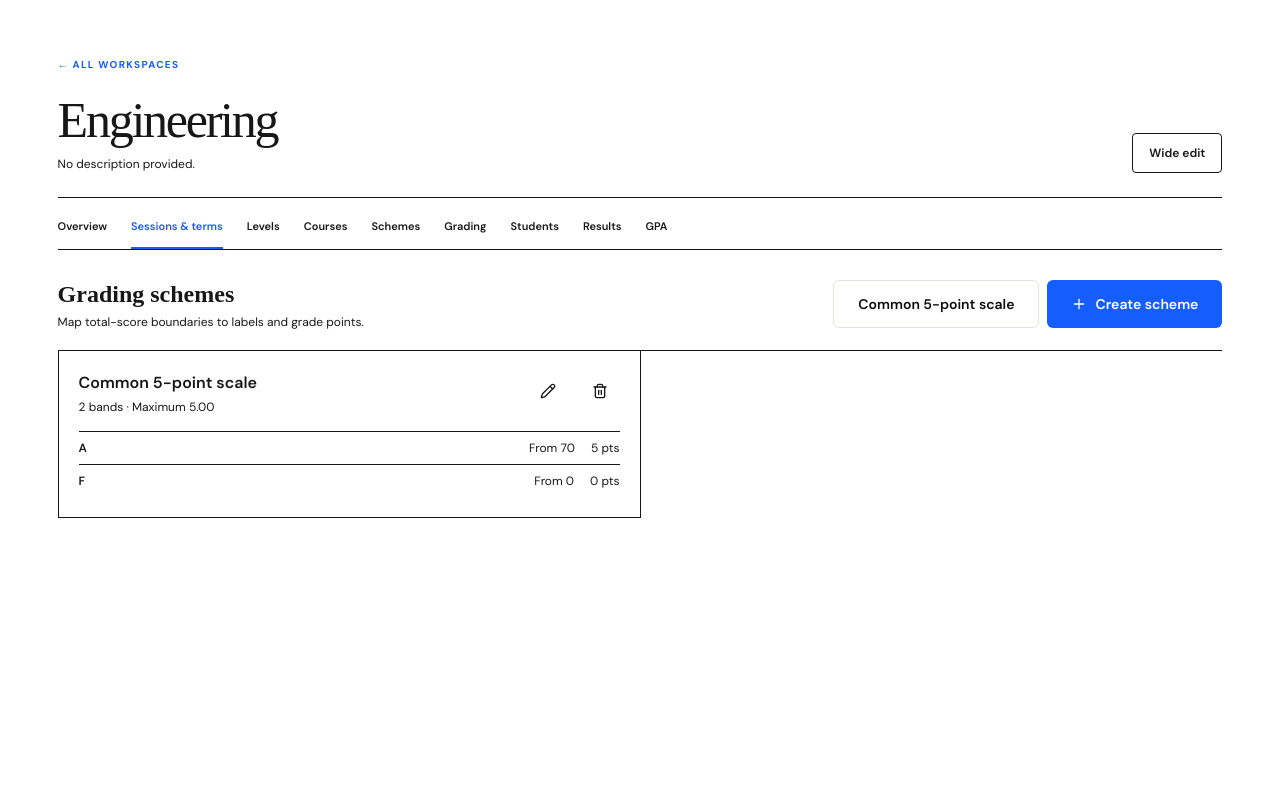
it: grading scheme management › edits a scheme and explains referenced-deletion conflicts without cache removal
The image size is (1280, 800).
Click the button named "Edit Common 5-point scale".
click(548, 391)  # box [528,371,568,411]
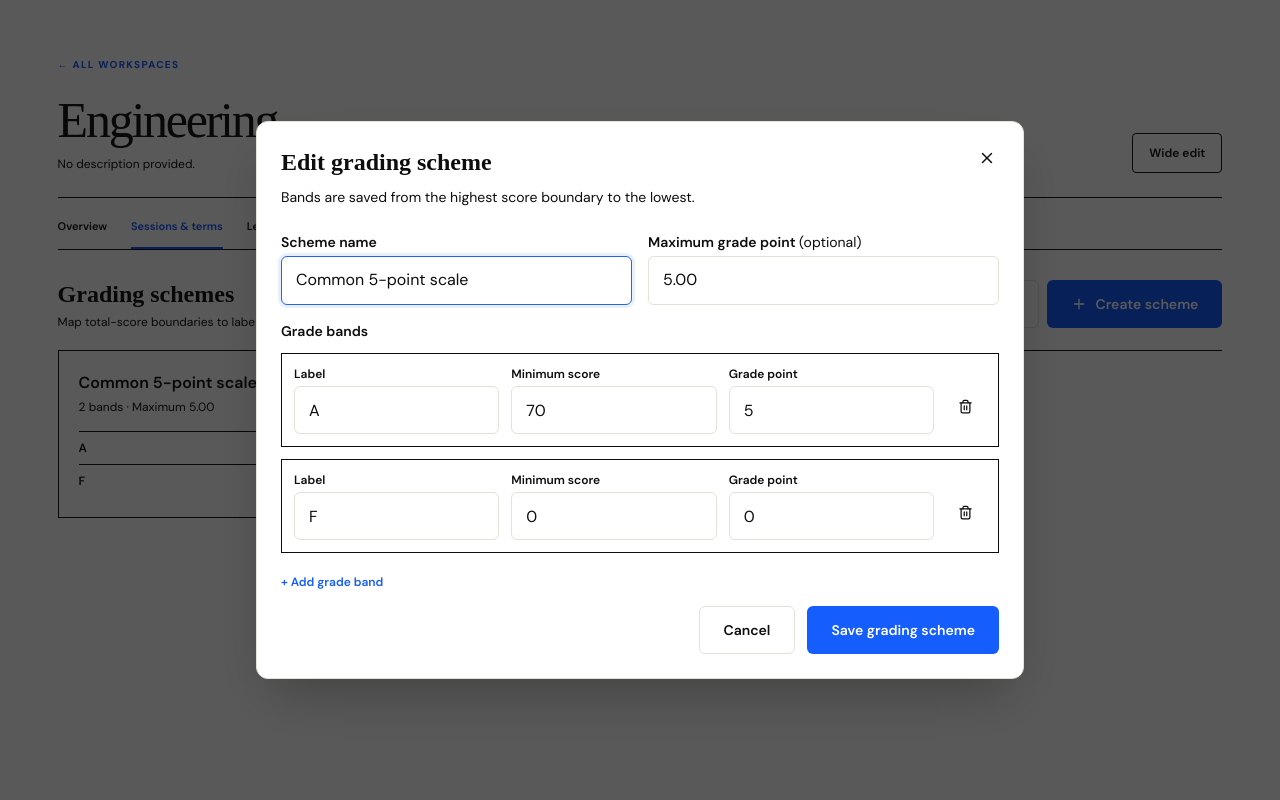
Replace the text in the field labelled "Scheme name" with "Faculty scale" at (456,281), box [281,256,632,305]
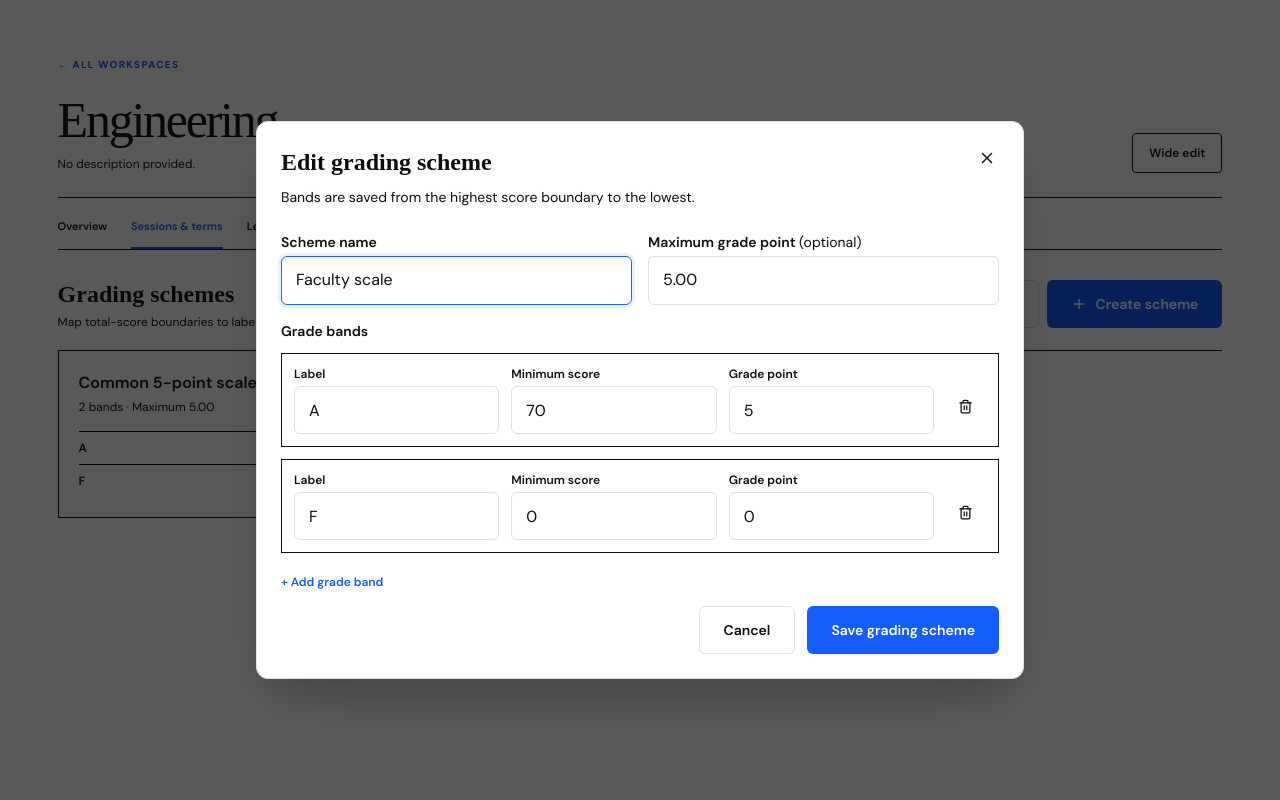
Click the button "Save grading scheme".
click(903, 630)  # box [807,606,999,654]
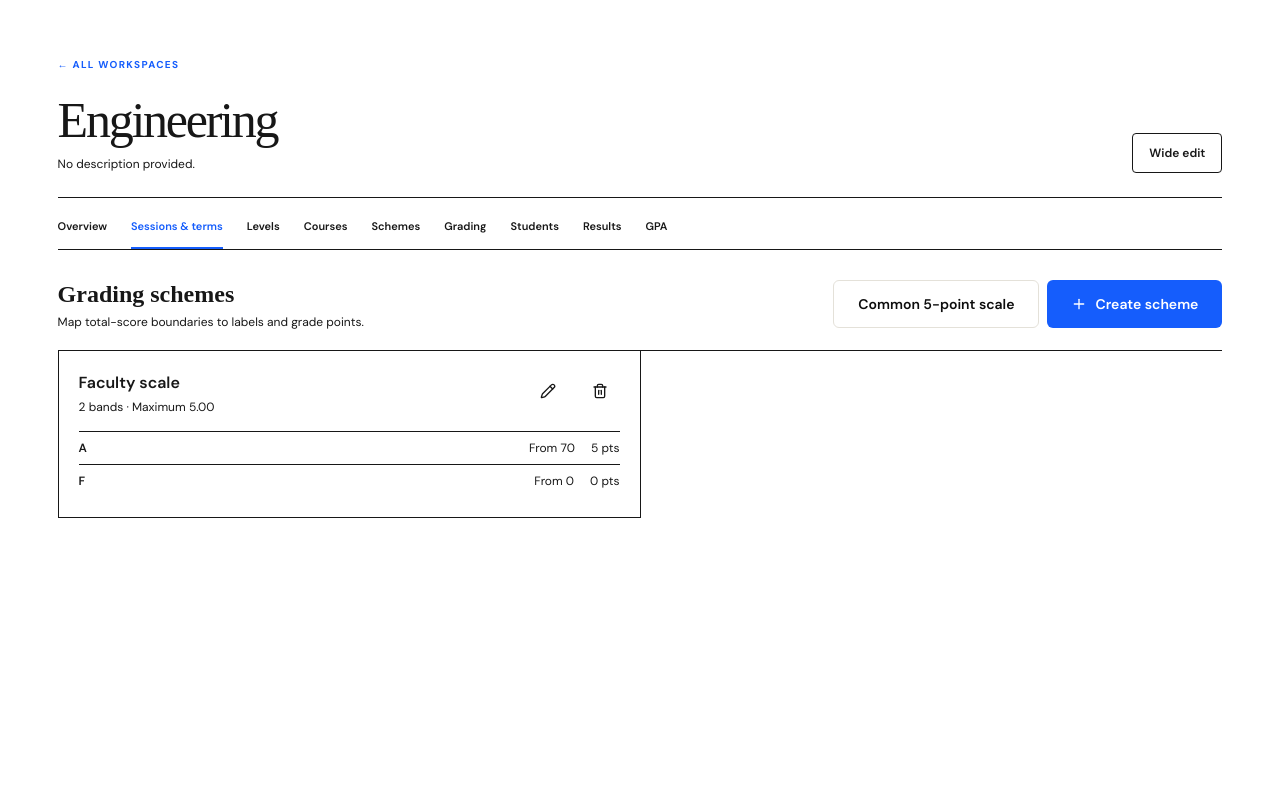
Now the heading "Faculty scale" is shown, box [79,372,180,393]
Click the button named "Delete Faculty scale".
click(600, 391)  # box [580,371,620,411]
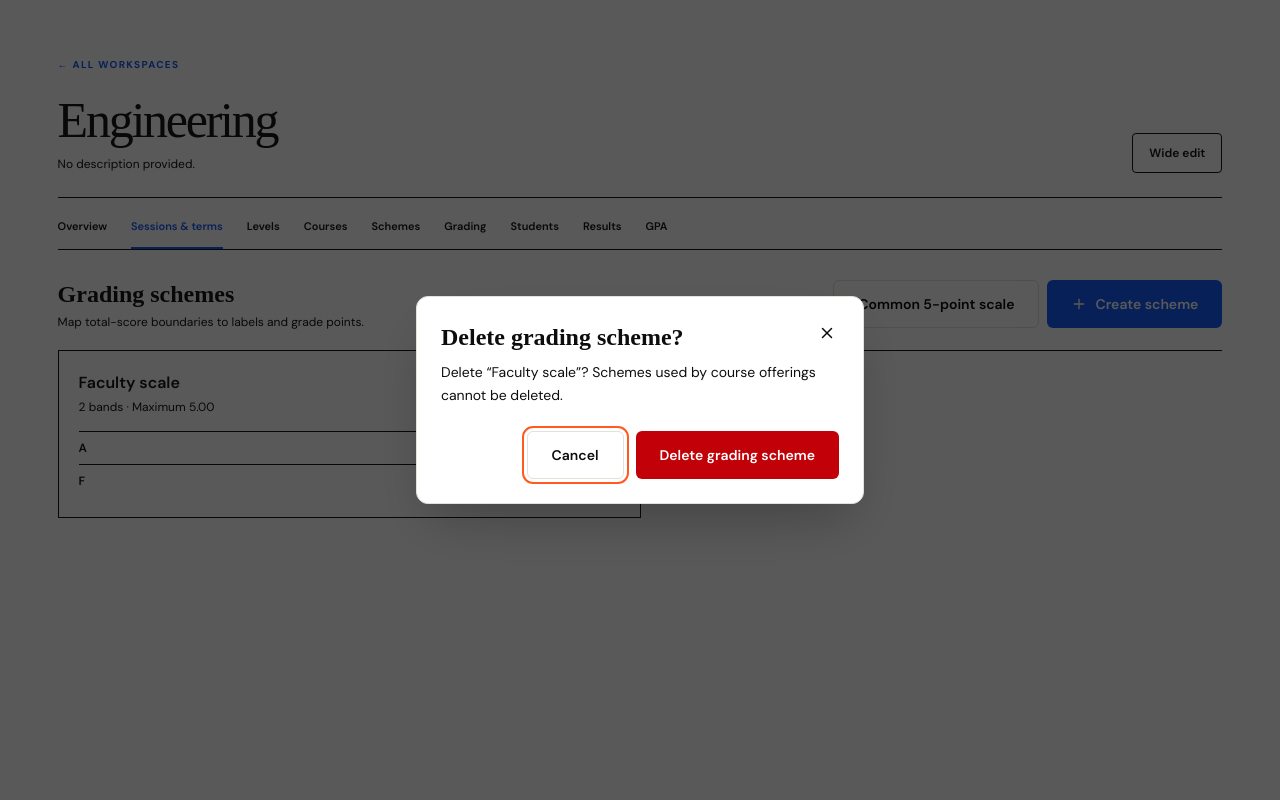
Now the dialog shows "Faculty scale", box [441,363,816,404]
Click the button "Delete grading scheme".
click(737, 455)  # box [636,431,839,479]
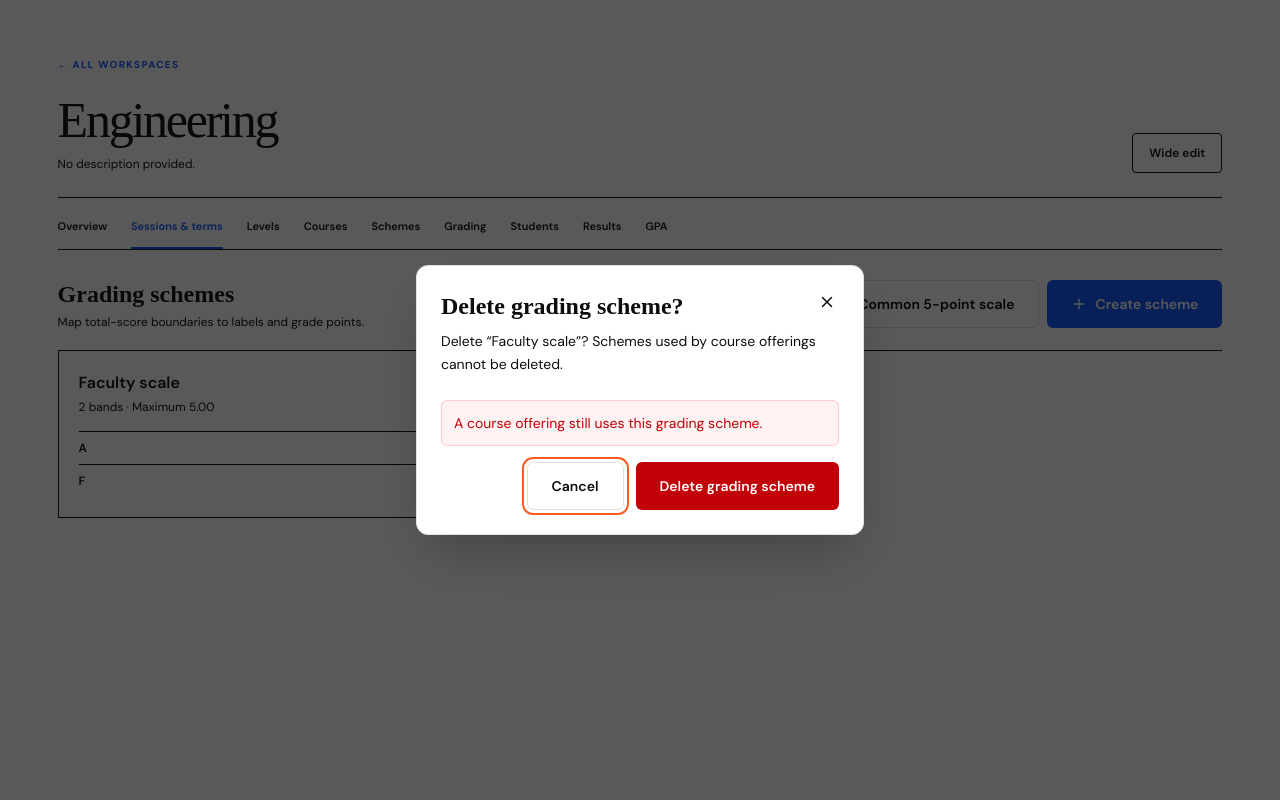
Now the heading "Faculty scale" is shown, box [79,372,180,393]
Now the text "A course offering still uses this grading scheme." is shown, box [441,400,839,446]
